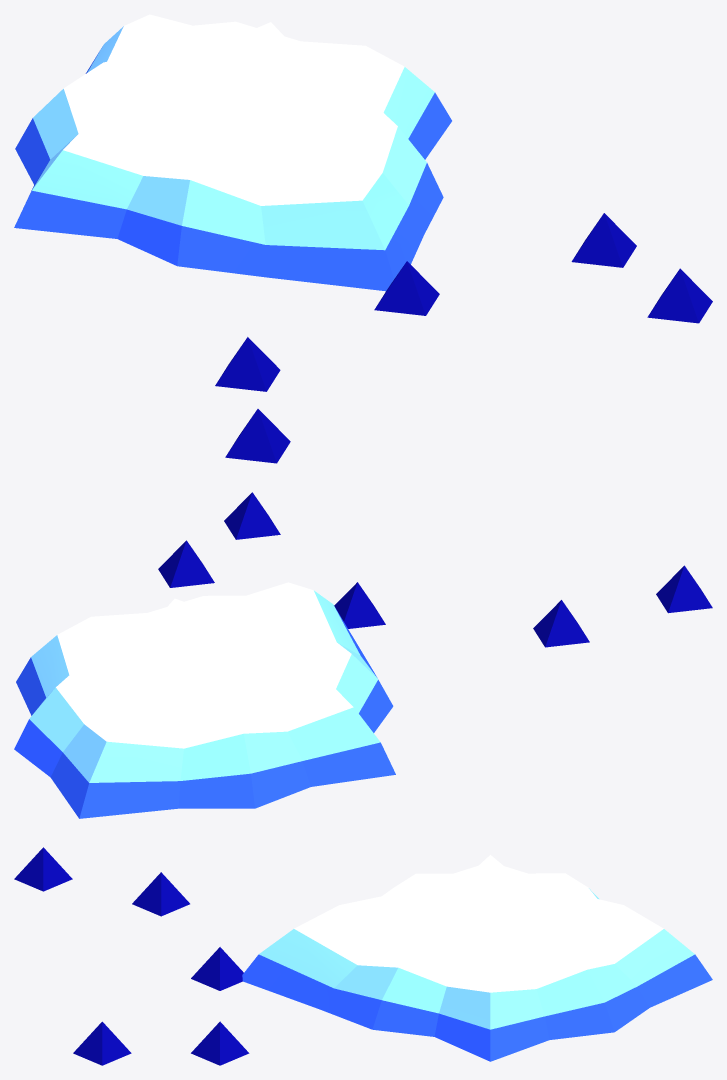
File: shot_ice_147.glb
3 renders of one model, top to bottom at view 1: azimuth 30°, elevation 25°; view 2: azimuth 150°, elevation 25°; view 3: azimuth 270°, elevation 25°, orthographic. The views are drawn at different scales.
Parts seen in each view (by area): view 1: shot_ice_147_cap, shot_ice_147_trail; view 2: shot_ice_147_cap, shot_ice_147_trail; view 3: shot_ice_147_cap, shot_ice_147_trail.
Part boxes in pixels (bbox=[...]): shot_ice_147_cap: bbox=[14, 14, 451, 291]; shot_ice_147_trail: bbox=[215, 213, 712, 463]; shot_ice_147_cap: bbox=[14, 582, 395, 818]; shot_ice_147_trail: bbox=[158, 492, 712, 647]; shot_ice_147_cap: bbox=[242, 855, 712, 1061]; shot_ice_147_trail: bbox=[14, 847, 249, 1065].
Size of the model in its own units: 8 by 2.21 by 11.87.
